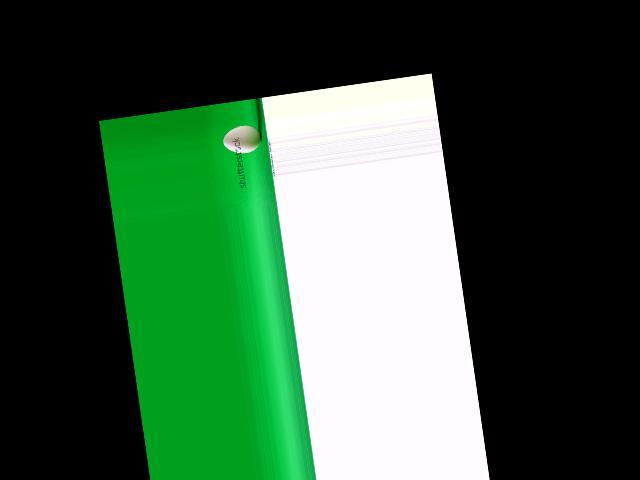egg: (221, 122, 263, 155)
